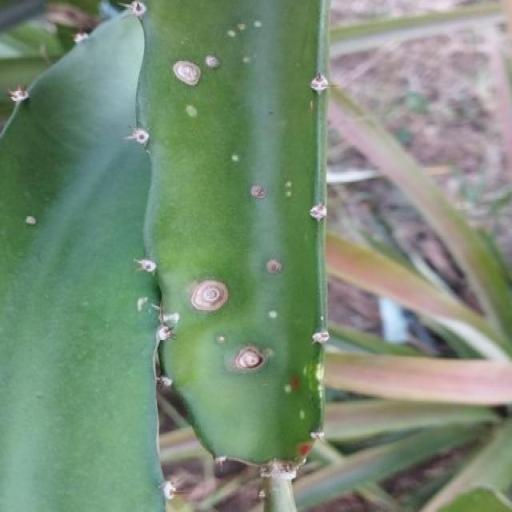stemcanker: (120, 271, 165, 380), (201, 203, 234, 238), (209, 254, 234, 298), (278, 220, 301, 258), (177, 381, 196, 415), (200, 297, 213, 342), (337, 166, 350, 190), (308, 316, 318, 346)
